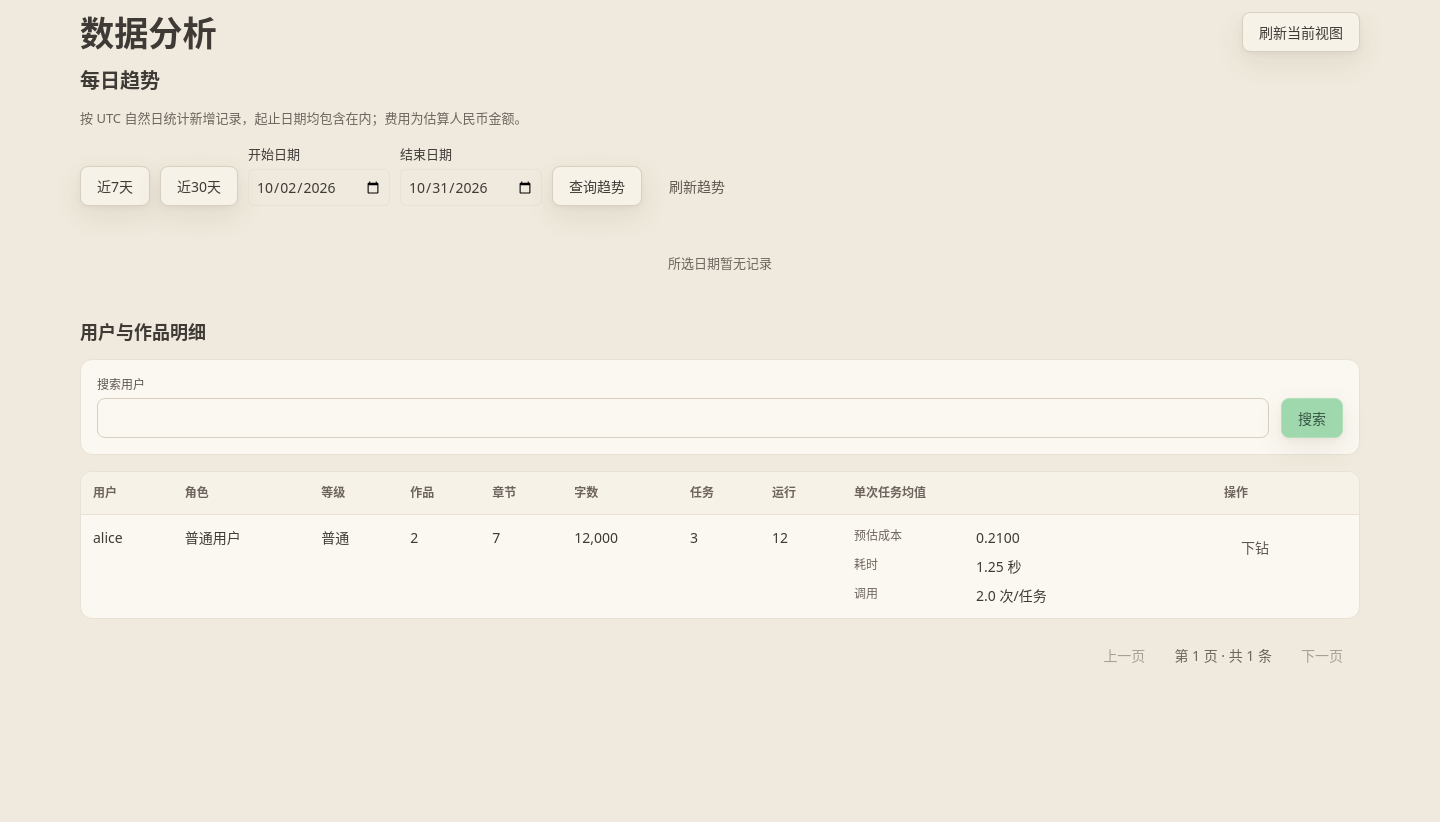
it: clears the drill-down when the user list is re-searched
This screenshot has width=1440, height=822.
Click the button with aria-label "分析 alice": (1255, 547) [1224,527,1286,567]
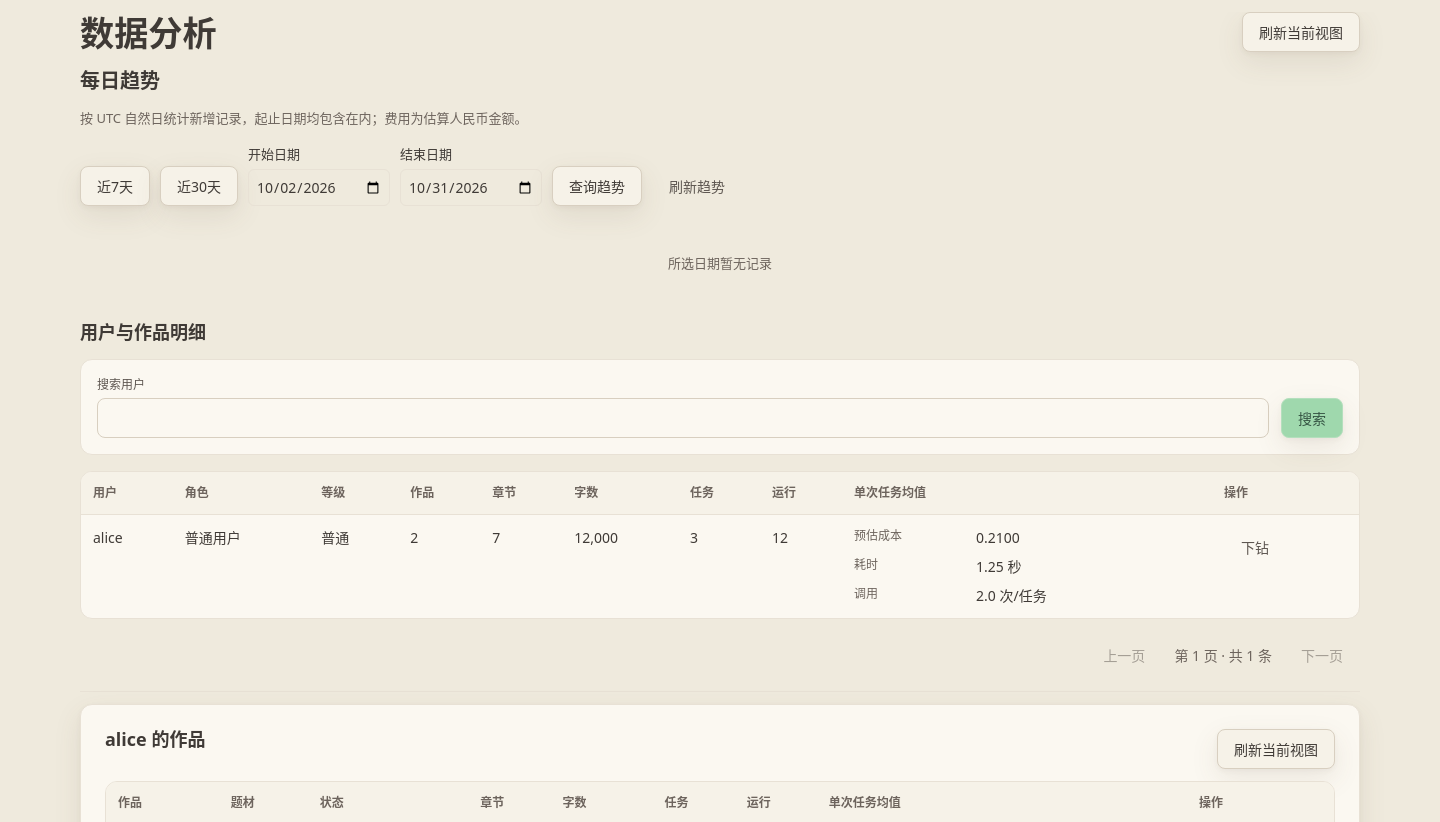
Expected: the heading "alice 的作品" is shown, [105,729,205,751]
Submit the form named "用户筛选", box [80,359,1360,455]
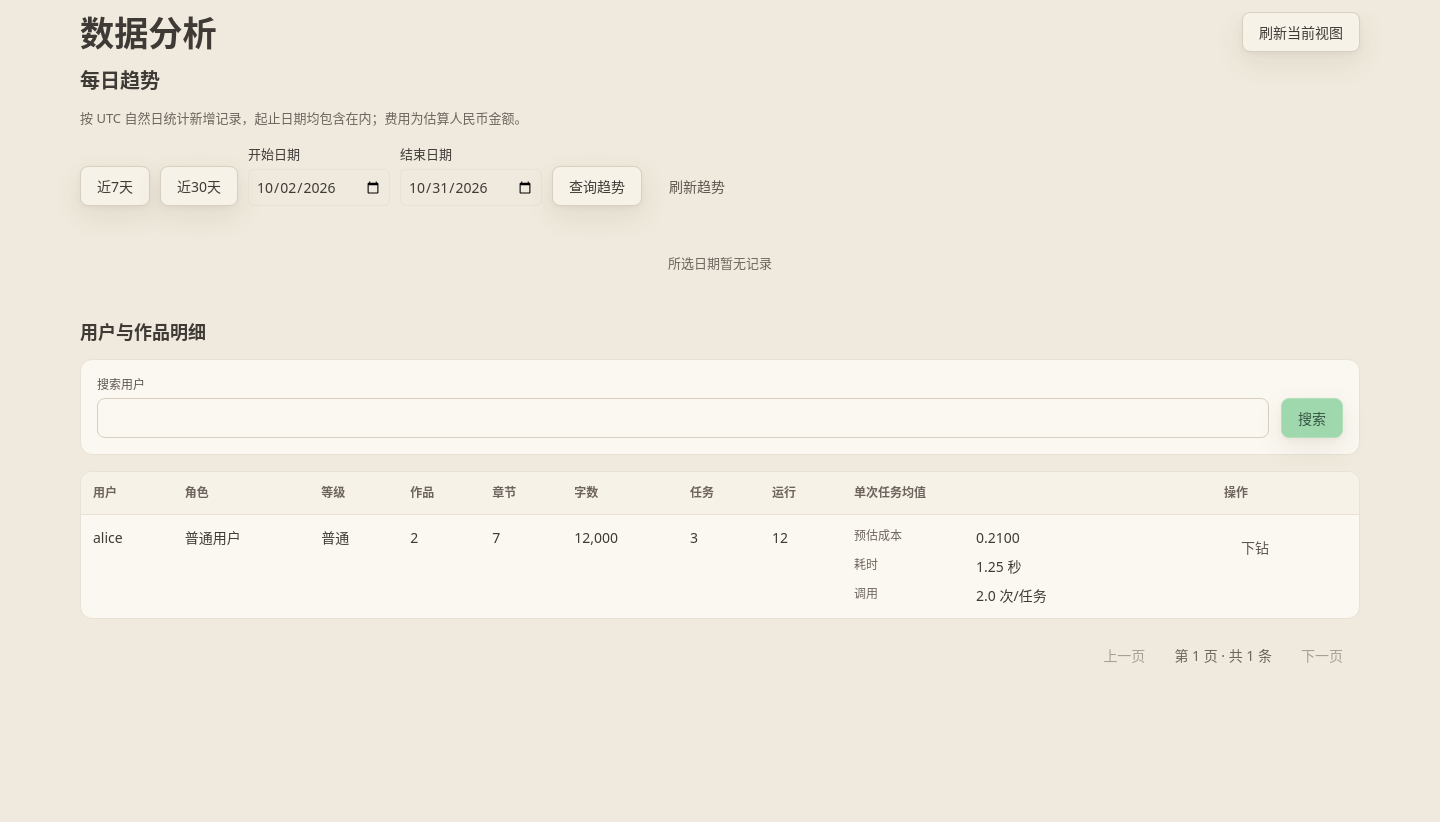
Expected: the heading "alice 的作品" is gone
